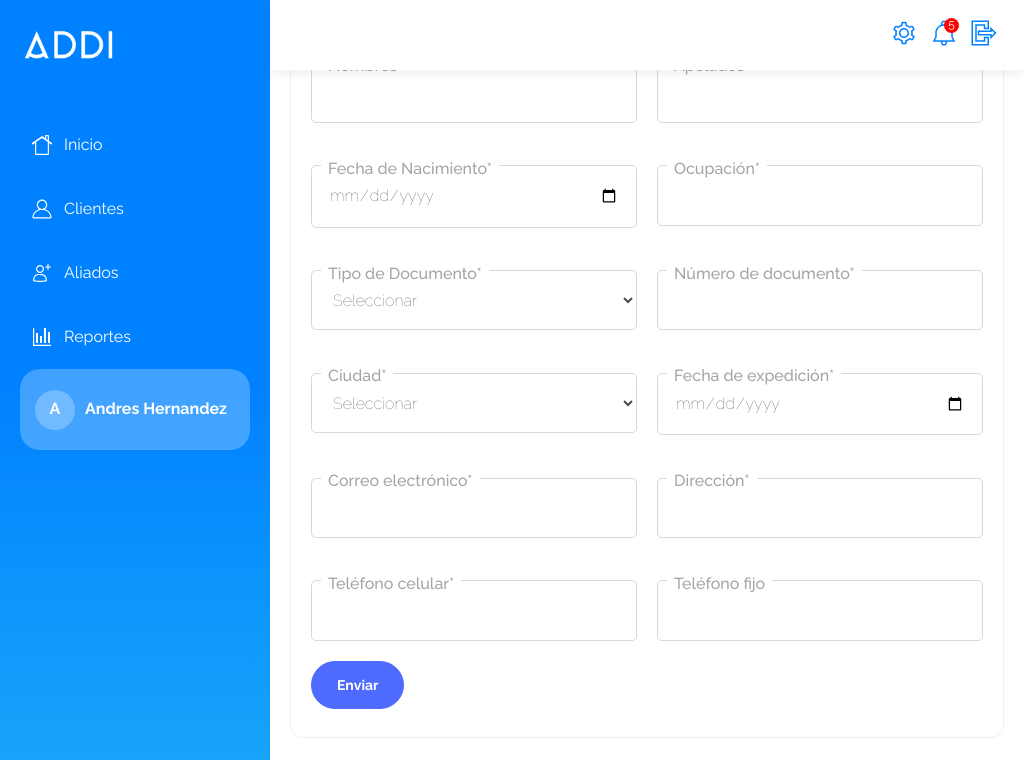
Test: Form › Fomulario Error campos Requeridos
(page scrolled)
Step 1. Click the button with id "save" → (358, 685), box top-left (311, 661), bottom-right (404, 709)
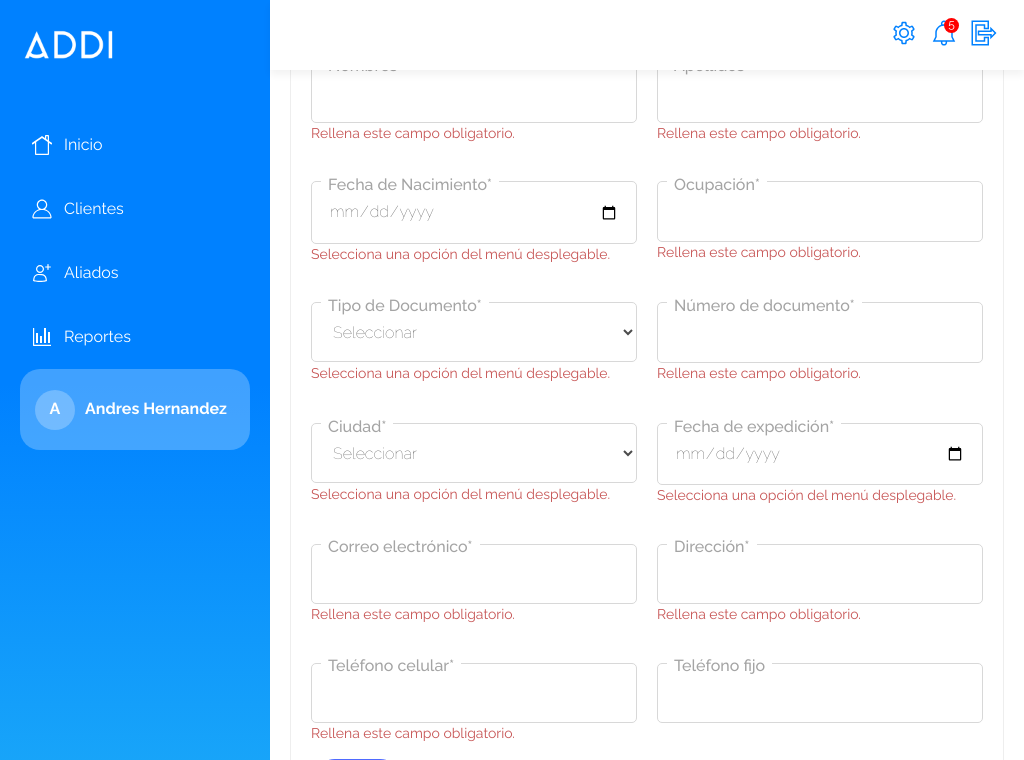
Result: the text with id "firstName-error" reads "Rellena este campo obligatorio." at top-left (311, 125), bottom-right (515, 141)
Result: the text with id "lastName-error" reads "Rellena este campo obligatorio." at top-left (657, 125), bottom-right (861, 141)
Result: the label with id "typeDocument-error" reads "Selecciona una opción del menú desplegable." at top-left (311, 365), bottom-right (610, 381)
